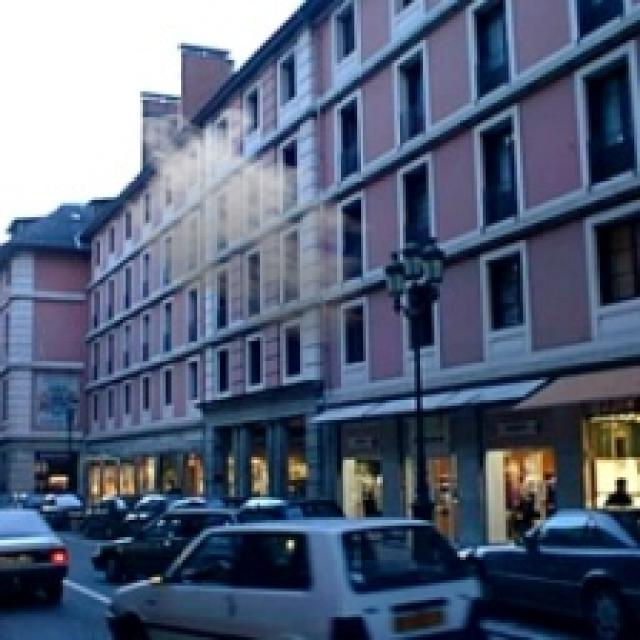smoke: (117, 106, 389, 346)
